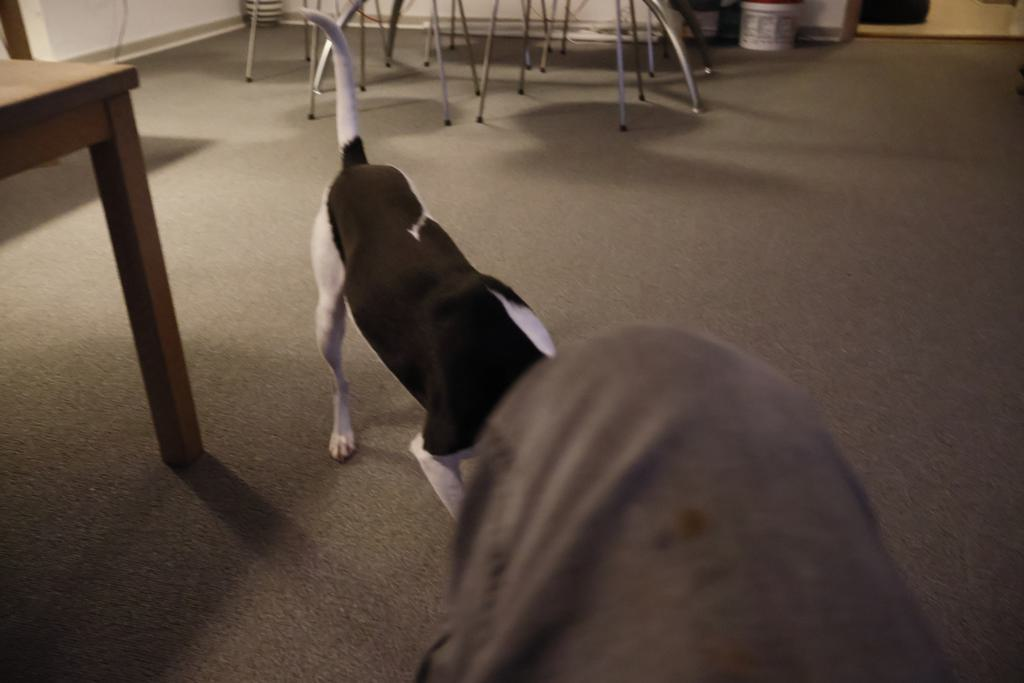Dog: (285, 2, 564, 531)
Humanoid: (404, 311, 960, 683)
